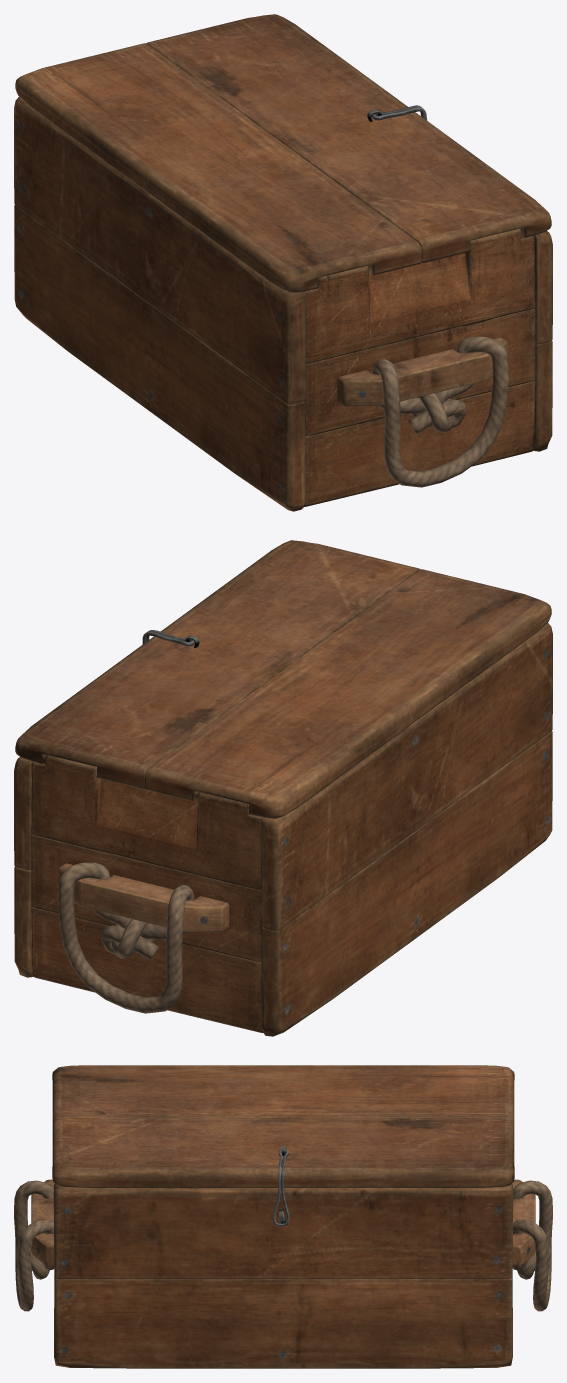
Rendered from Caja_Madera-v1.glb.
The picture shows the model from 3 angles, top to bottom: view 1: azimuth 30°, elevation 25°; view 2: azimuth 150°, elevation 25°; view 3: azimuth 270°, elevation 25°; orthographic projection. The views are drawn at different scales.
Parts seen in each view (by area): view 1: wooden_crate_01, wooden_crate_01_lid; view 2: wooden_crate_01, wooden_crate_01_lid; view 3: wooden_crate_01, wooden_crate_01_lid, wooden_crate_01_latch.
Boxes of the visible parts, x1,y1,x2,y2 form: wooden_crate_01: (14, 97, 552, 511); wooden_crate_01_lid: (15, 14, 551, 292); wooden_crate_01: (14, 623, 552, 1036); wooden_crate_01_lid: (15, 540, 551, 818); wooden_crate_01: (14, 1179, 552, 1368); wooden_crate_01_lid: (52, 1065, 514, 1187); wooden_crate_01_latch: (273, 1149, 289, 1226).
Bounding box in the file's own units: 0.409 × 0.3496 × 0.8253.
Materials: 1 (1 with a texture image).
